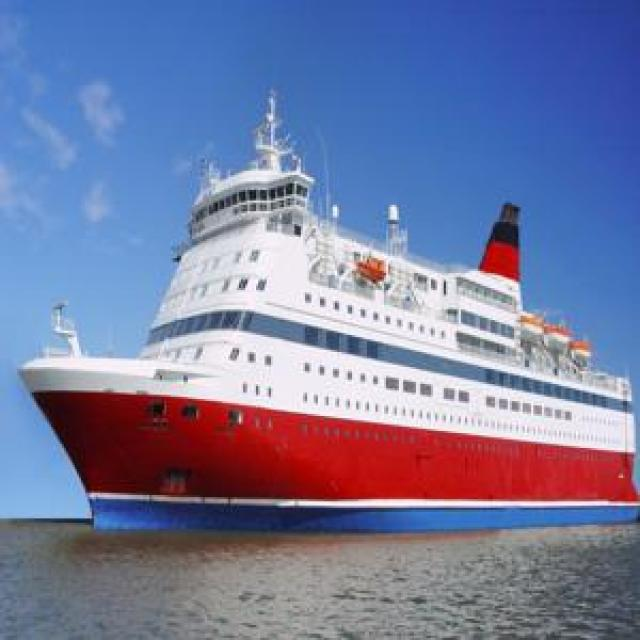passenger ship: (24, 79, 638, 530)
